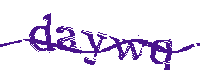a: (54, 25, 82, 52)
d: (28, 11, 55, 55)
q: (151, 39, 172, 70)
w: (110, 36, 147, 61)
y: (82, 27, 106, 69)
